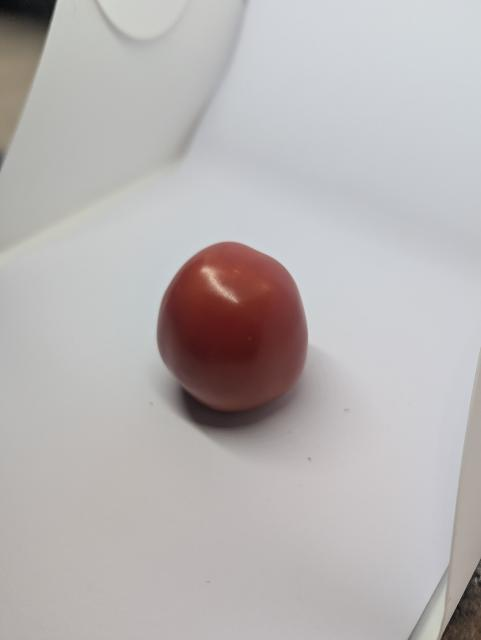red: (149, 232, 308, 436)
